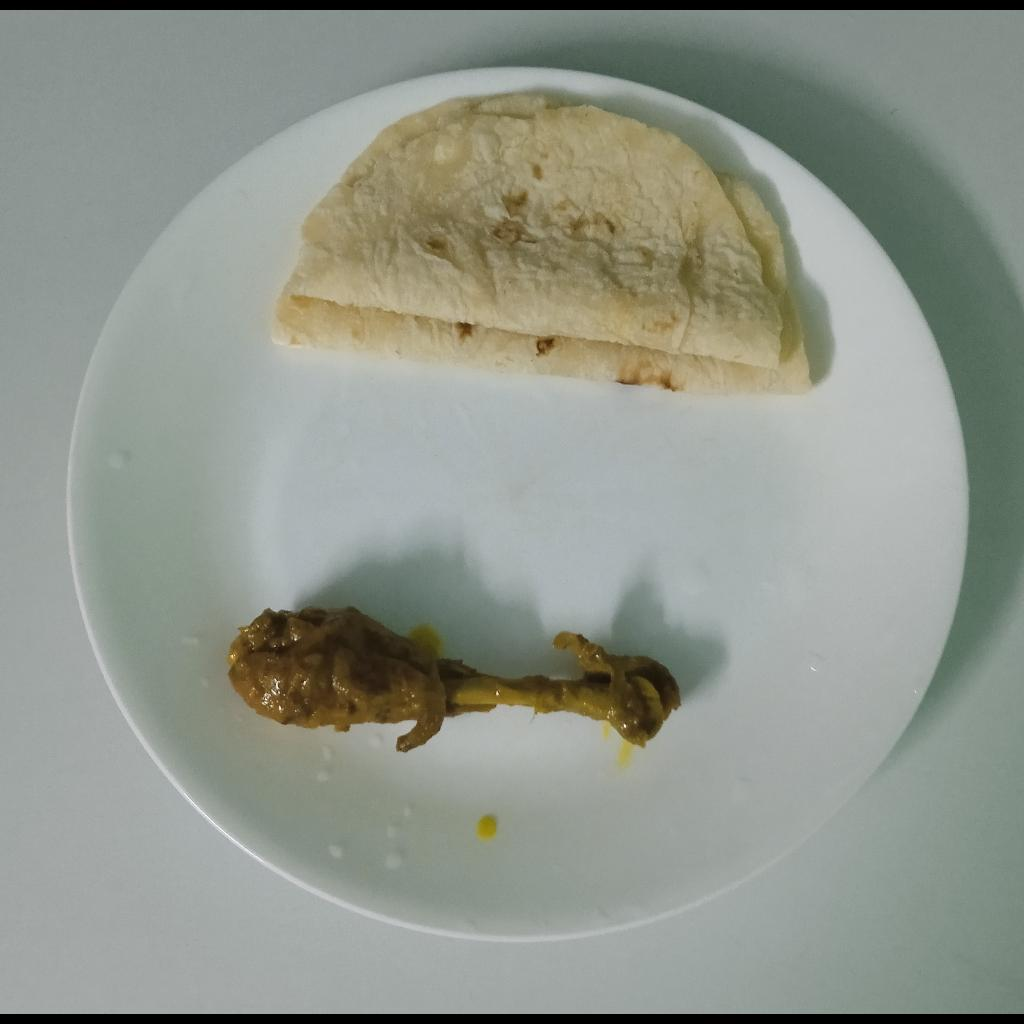chicken: (224, 604, 682, 754)
ruti: (269, 91, 819, 401)
